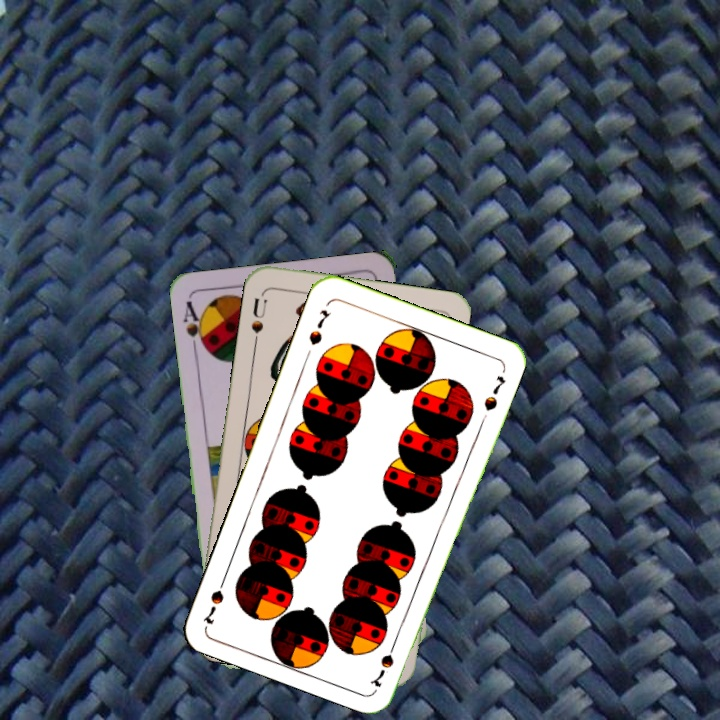S7: (369, 634, 400, 690), (304, 305, 333, 348)
SA: (179, 297, 210, 356)
SU: (247, 294, 269, 348)
